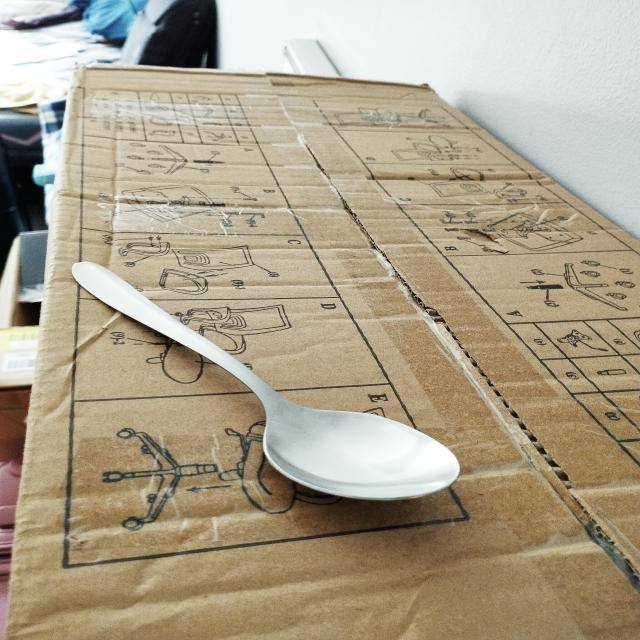Spoon: (6, 252, 561, 518)
